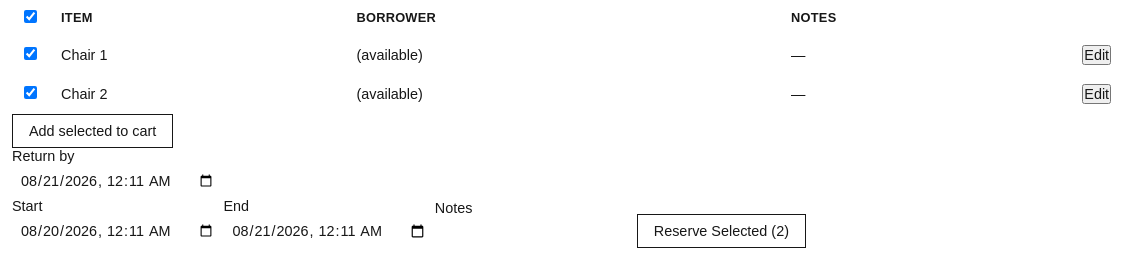
Test case: Add selected to cart is disabled with no selection
Click the checkbox named "Select all sub-items" at (30, 16), box [24,10,37,23]
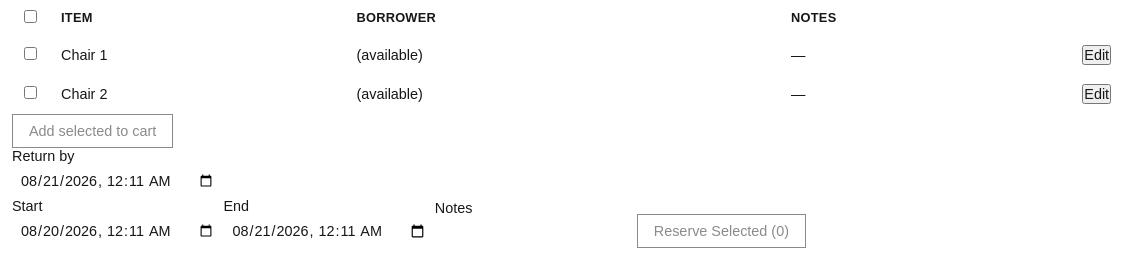
Result: the button "Add selected to cart" is disabled at [12,114,173,148]
